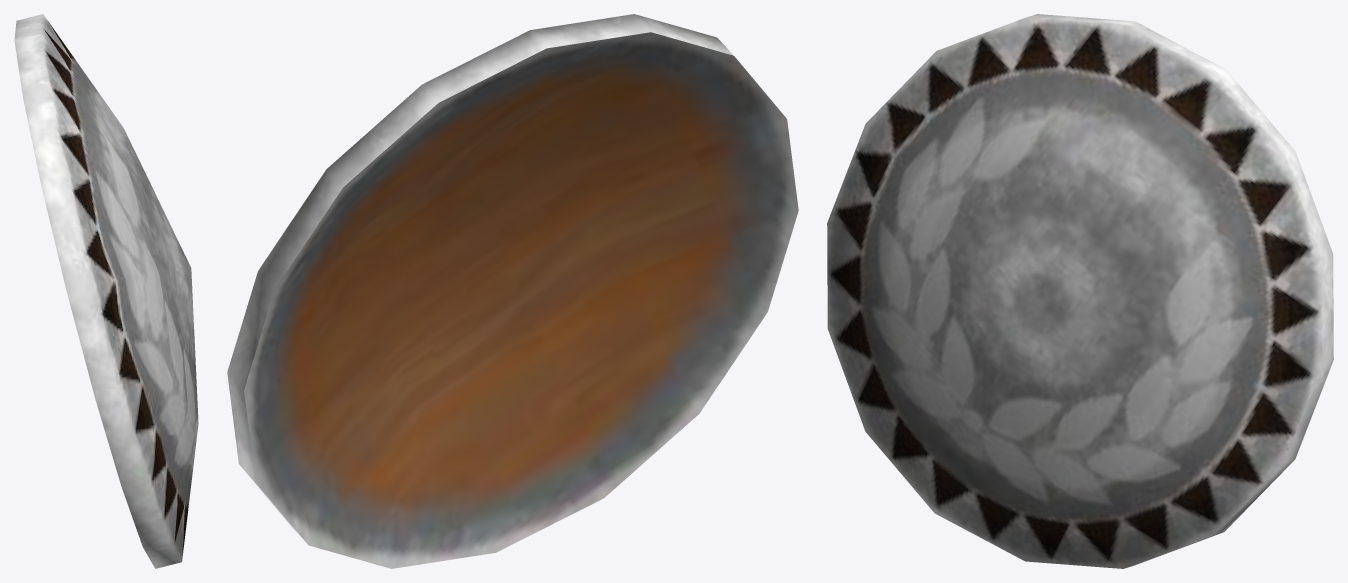
The model's file is shield-bronzeshields.glb.
The picture shows the model from 3 angles, left to right: view 1: azimuth 30°, elevation 25°; view 2: azimuth 150°, elevation 25°; view 3: azimuth 270°, elevation 25°; orthographic projection. The views are drawn at different scales.
Bounding box in the file's own units: 0.3795 × 0.6746 × 0.623.
Materials: 1 (1 with a texture image).
